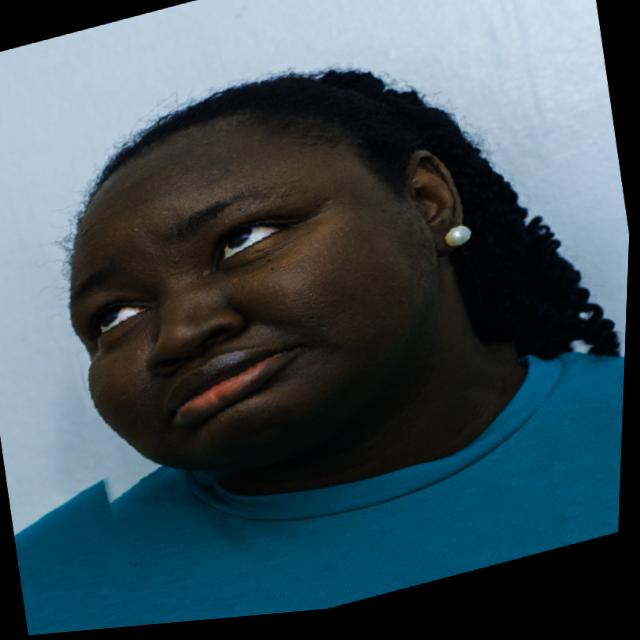sad: (16, 15, 531, 525)
